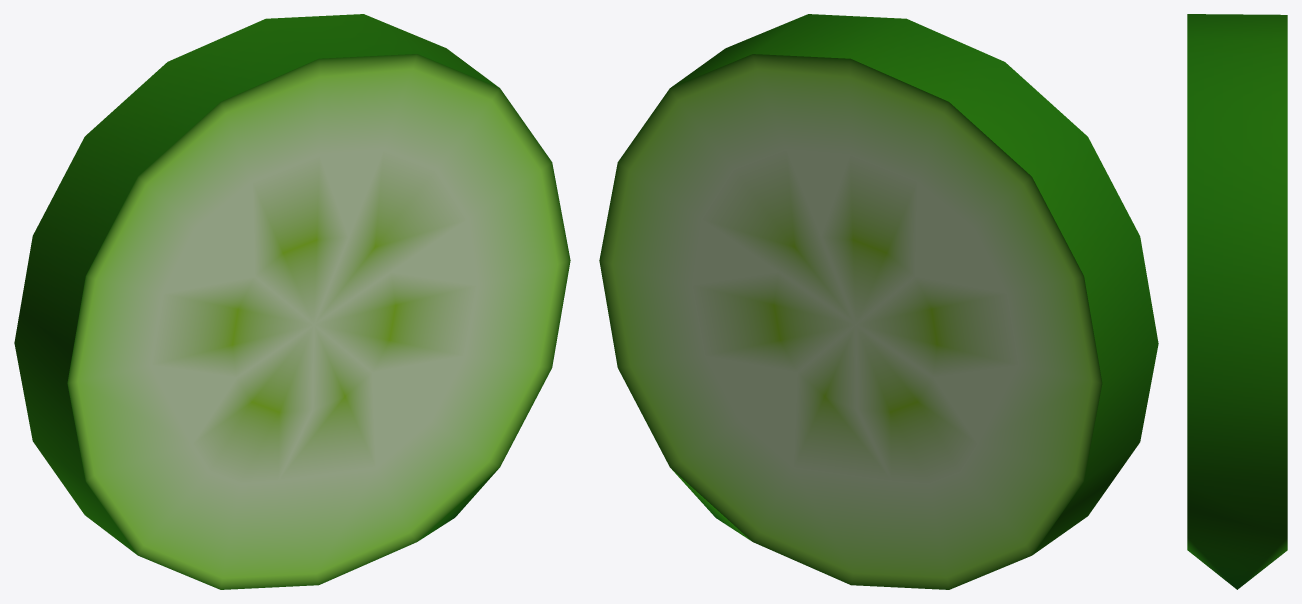
The model's file is Cucumber_Slice_11.fbx.
The picture shows the model from 3 angles, left to right: view 1: azimuth 30°, elevation 25°; view 2: azimuth 150°, elevation 25°; view 3: azimuth 270°, elevation 25°; orthographic projection. The views are drawn at different scales.
Parts seen in each view (by area): view 1: Cucumber_Slice_11; view 2: Cucumber_Slice_11; view 3: Cucumber_Slice_11.
Boxes of the visible parts, x1=… form: Cucumber_Slice_11: x1=14, y1=14, x2=570, y2=589; Cucumber_Slice_11: x1=599, y1=14, x2=1158, y2=589; Cucumber_Slice_11: x1=1187, y1=14, x2=1287, y2=589.
Size of the model in its own units: 4.6 by 4.59 by 0.8621.
